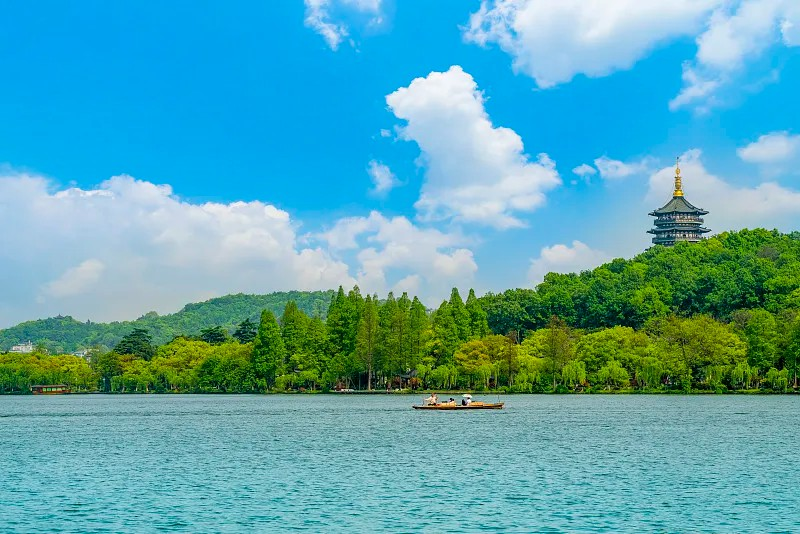Leifeng: (647, 156, 712, 247)
